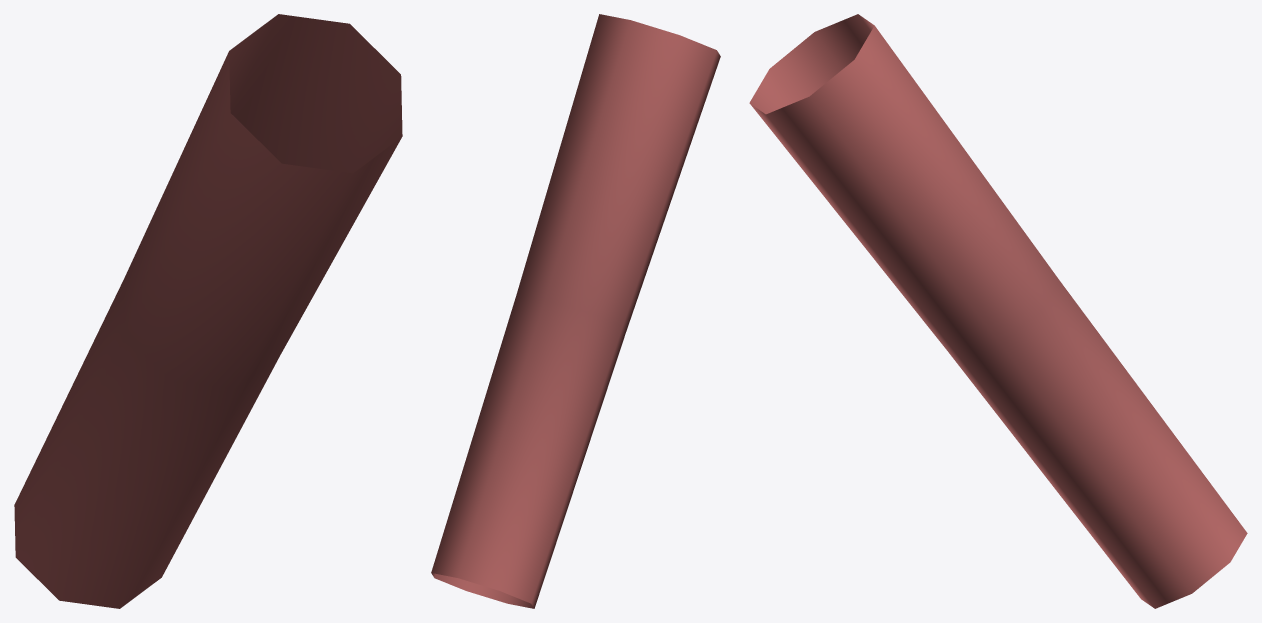
File: Hato_Body_Limb1L.fbx
3 views of the same model, side by side, from view 1: azimuth 30°, elevation 25°; view 2: azimuth 150°, elevation 25°; view 3: azimuth 270°, elevation 25° (orthographic). The views are drawn at different scales.
Parts seen in each view (by area): view 1: Hato_Body_Limb1L; view 2: Hato_Body_Limb1L; view 3: Hato_Body_Limb1L.
Part boxes in pixels (x1=…): Hato_Body_Limb1L: x1=14, y1=14, x2=402, y2=608; Hato_Body_Limb1L: x1=431, y1=14, x2=720, y2=608; Hato_Body_Limb1L: x1=749, y1=14, x2=1247, y2=608.
Size of the model in its own units: 0.3144 by 1.28 by 1.02.
